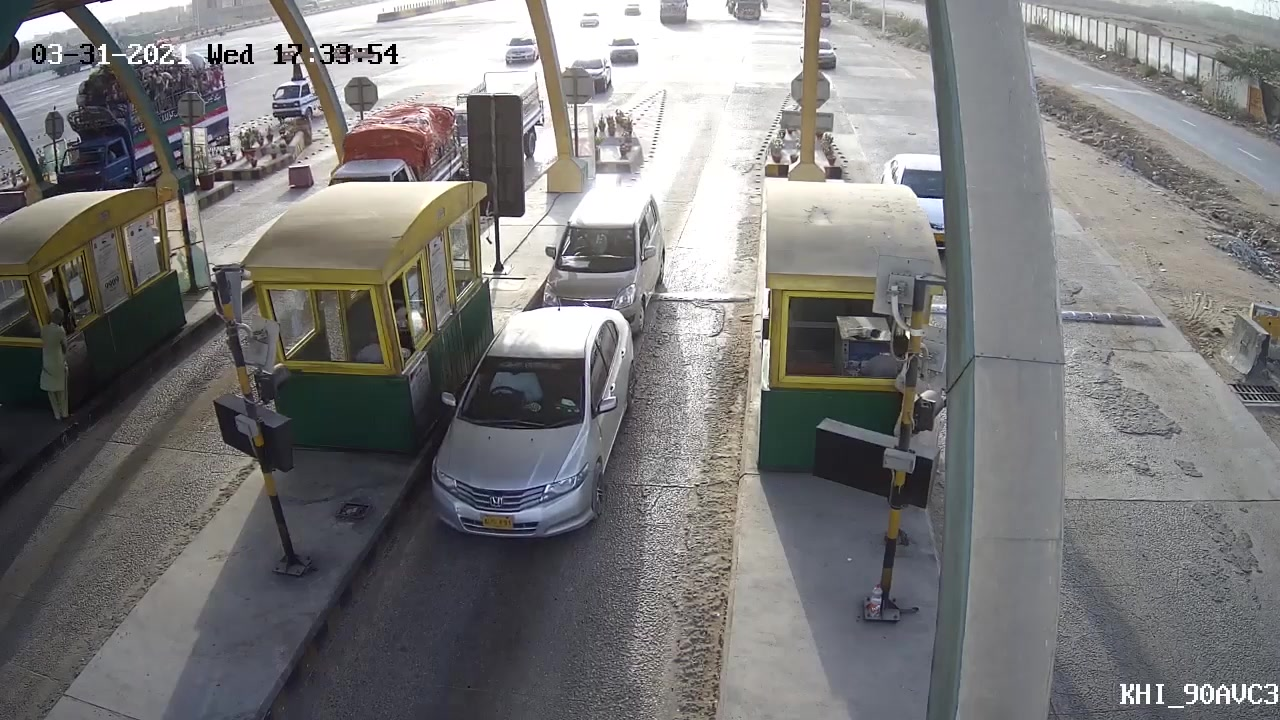F1: (414, 301, 642, 565)
